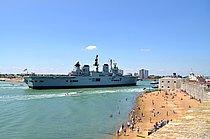MIL_Ship: (23, 55, 139, 88)
